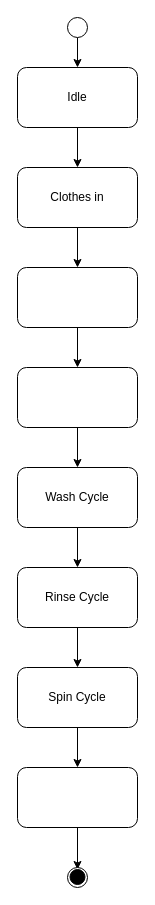
The diagram is 155 pixels wide and 905 high, and some of its shapes have lost their labels. Here are the shapes that lost their labels. From the top down, the centre of each, then its label:
At [77,297]: "Detergent / Powder in".
At [77,397]: "Fabric Softner in".
At [77,797]: "Take Clothes out".
